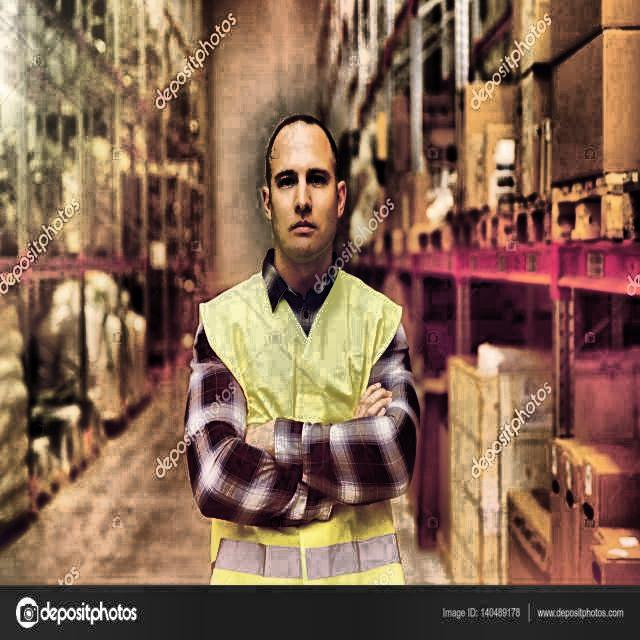safety_jacket: (163, 262, 434, 574)
